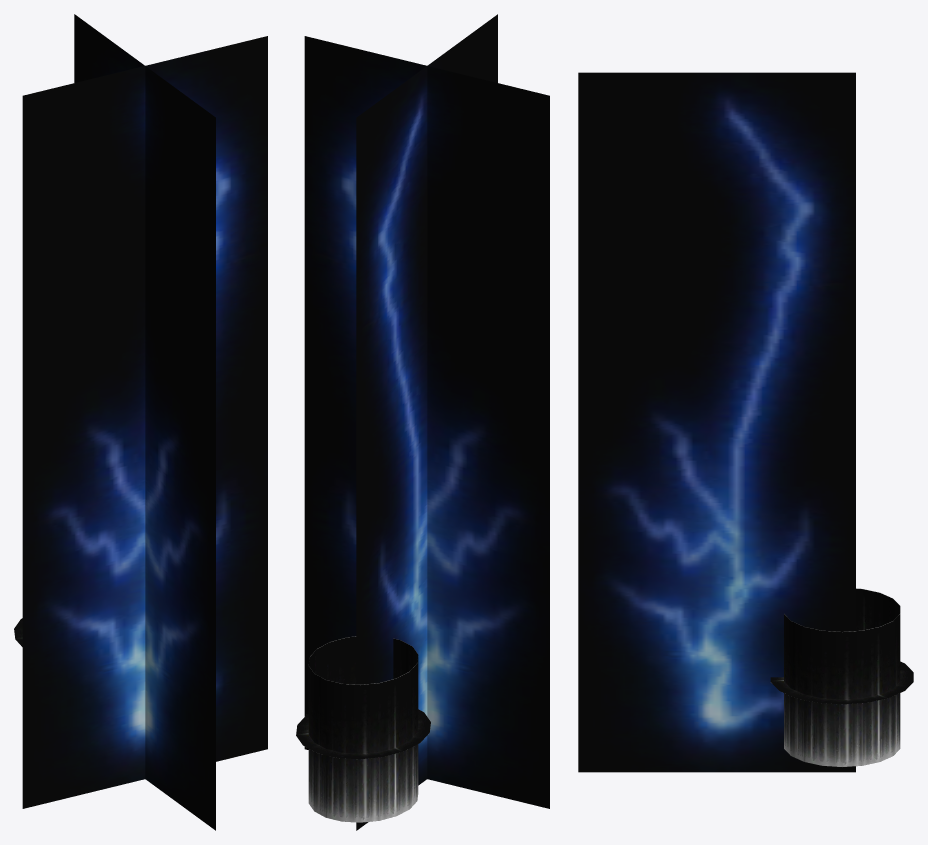
File: Effect_1161bigskill01.fbx
3 views of the same model, side by side, from view 1: azimuth 30°, elevation 25°; view 2: azimuth 150°, elevation 25°; view 3: azimuth 270°, elevation 25° (orthographic).
Visible parts, largest first — view 1: Effect_1161bigskill002, Effect_1161bigskill003; view 2: Effect_1161bigskill002, Effect_1161bigskill003, Effect_1161bigskill001; view 3: Effect_1161bigskill003, Effect_1161bigskill001.
Boxes of the visible parts, x1=… form: Effect_1161bigskill002: x1=22, y1=36, x2=267, y2=808; Effect_1161bigskill003: x1=74, y1=14, x2=215, y2=830; Effect_1161bigskill002: x1=304, y1=36, x2=549, y2=808; Effect_1161bigskill003: x1=356, y1=14, x2=497, y2=830; Effect_1161bigskill001: x1=296, y1=636, x2=430, y2=822; Effect_1161bigskill003: x1=578, y1=72, x2=855, y2=772; Effect_1161bigskill001: x1=770, y1=588, x2=913, y2=766.
Bounding box in the file's own units: 2.16 × 6 × 2.61.
Materials: 2 (2 with a texture image).
